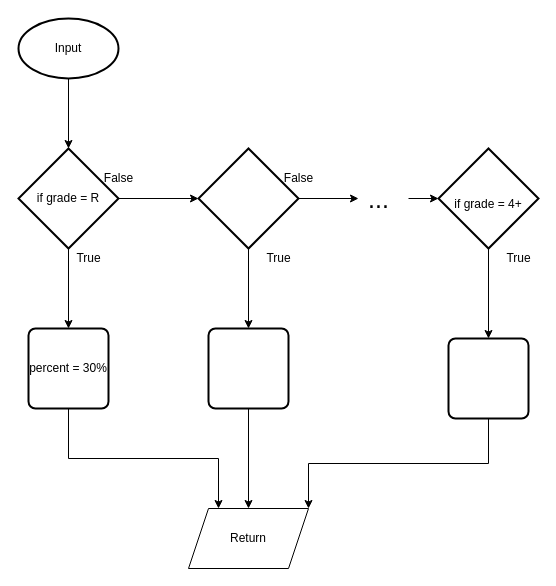
The diagram is 556 pixels wide and 586 high, and some of its shapes have lost their labels. Here are the shapes that lost their labels. From the top down, the box of each, then its label:
(197, 147, 299, 249): if grade = 1-
(207, 327, 289, 409): percent = 51%
(447, 337, 529, 419): percent = 97%
